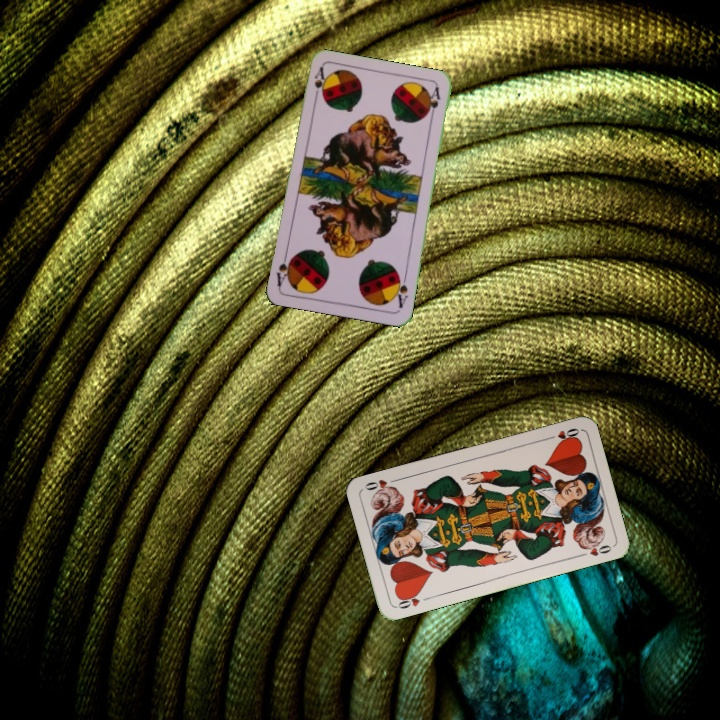HO: (393, 588, 433, 611), (542, 424, 582, 445)
SA: (390, 269, 410, 311), (310, 64, 327, 104)
